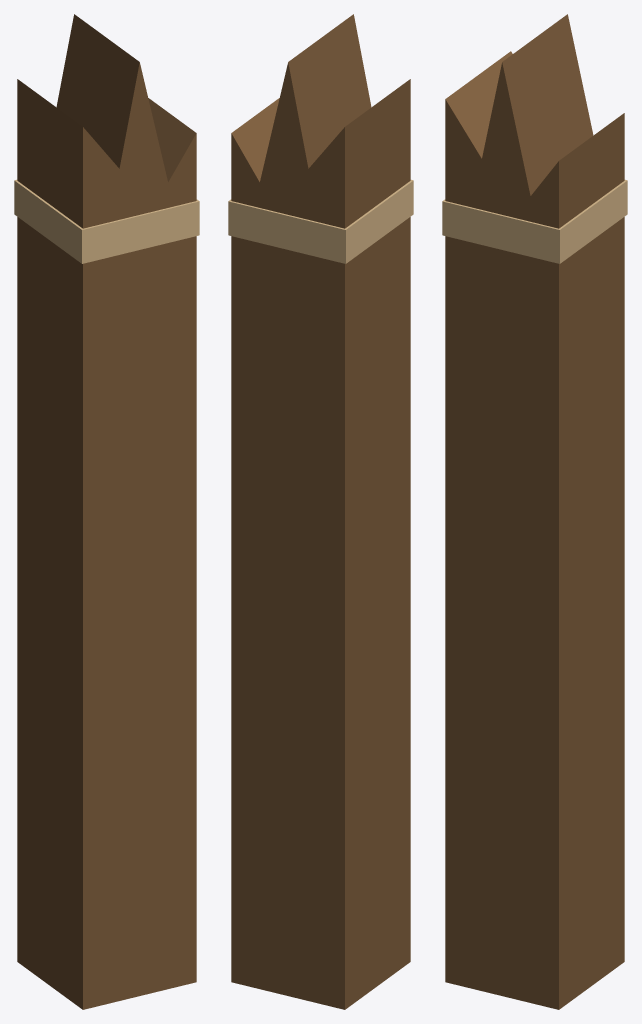
Rendered from TW_WOOD_END_BROKEN_A_LOD0.glb.
3 renders of one model, left to right at view 1: azimuth 30°, elevation 25°; view 2: azimuth 150°, elevation 25°; view 3: azimuth 330°, elevation 25°, orthographic.
Parts seen in each view (by area): view 1: TW_WOOD_END_BROKEN_A_LOD0; view 2: TW_WOOD_END_BROKEN_A_LOD0; view 3: TW_WOOD_END_BROKEN_A_LOD0.
Boxes of the visible parts, left/top/right/bottom form: TW_WOOD_END_BROKEN_A_LOD0: left=14, top=14, right=199, bottom=1009; TW_WOOD_END_BROKEN_A_LOD0: left=228, top=14, right=413, bottom=1009; TW_WOOD_END_BROKEN_A_LOD0: left=442, top=14, right=627, bottom=1009.
Size of the model in its own units: 0.145 by 1.1 by 0.145.
1 material, 1 textured.
